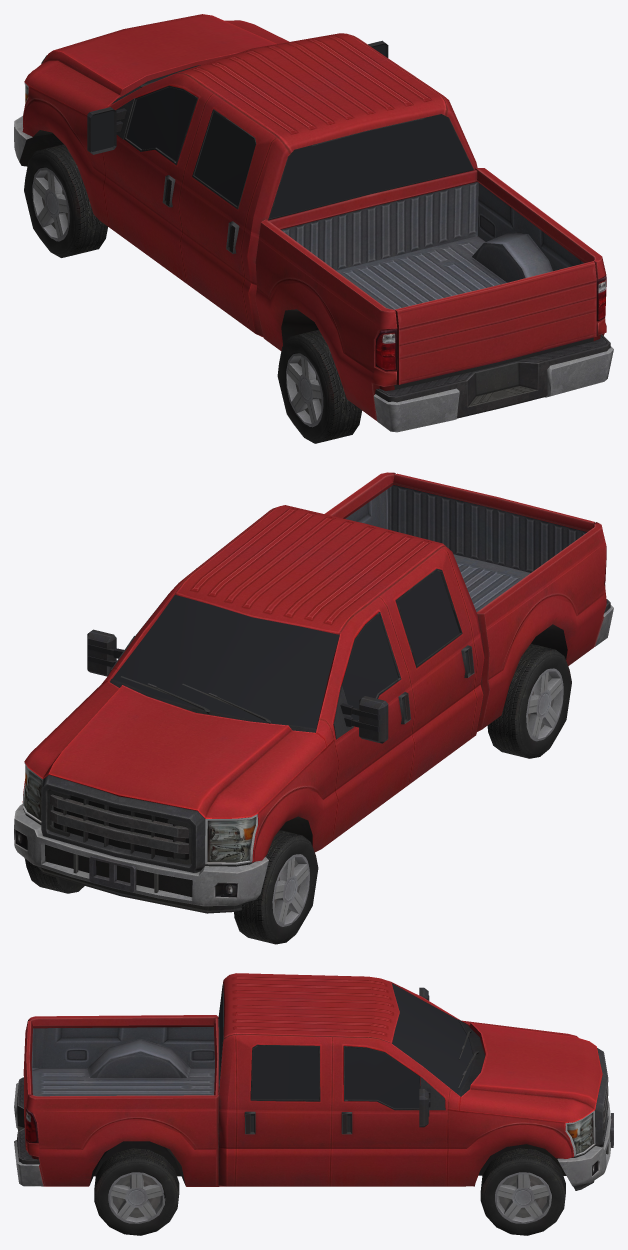
File: Pickup_Truck_Ford_F250.glb
3 renders of one model, top to bottom at view 1: azimuth 30°, elevation 25°; view 2: azimuth 150°, elevation 25°; view 3: azimuth 270°, elevation 25°, orthographic. The views are drawn at different scales.
Visible parts, largest first — view 1: Pickup_Truck_Ford_F250__LOD3; view 2: Pickup_Truck_Ford_F250__LOD3; view 3: Pickup_Truck_Ford_F250__LOD3.
Part boxes in pixels (<box>): Pickup_Truck_Ford_F250__LOD3: <box>14,14,613,443</box>; Pickup_Truck_Ford_F250__LOD3: <box>14,472,613,944</box>; Pickup_Truck_Ford_F250__LOD3: <box>14,973,613,1235</box>.
Bounding box in the file's own units: 2.61 × 2.08 × 5.98.
1 material, 1 textured.
